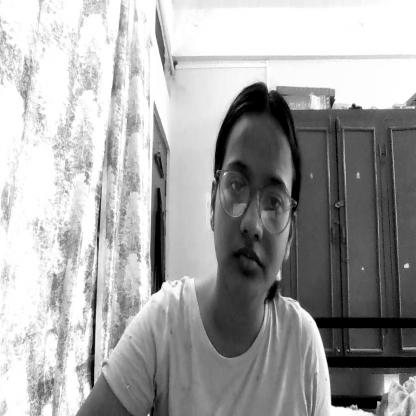Normal: (212, 92, 297, 314)
